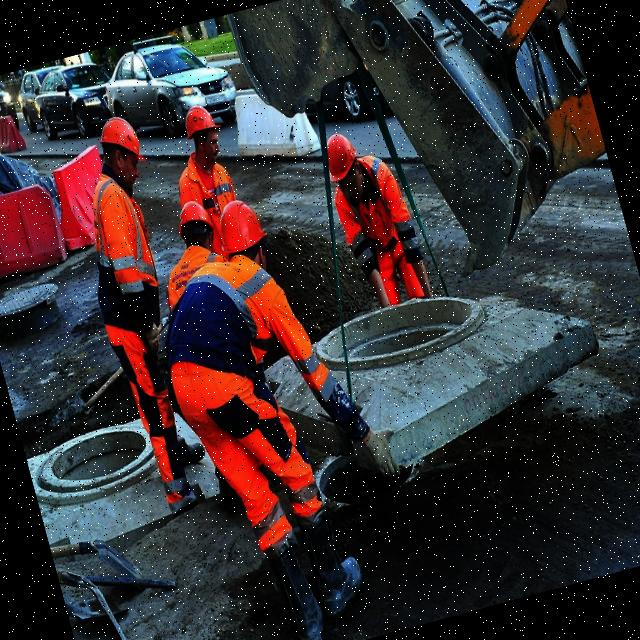Helmet: (212, 195, 269, 258), (93, 110, 149, 173), (322, 133, 364, 186), (173, 197, 214, 239), (179, 103, 222, 143)
Jacket: (153, 251, 293, 391), (84, 183, 169, 330), (337, 169, 414, 272), (181, 163, 234, 210)
